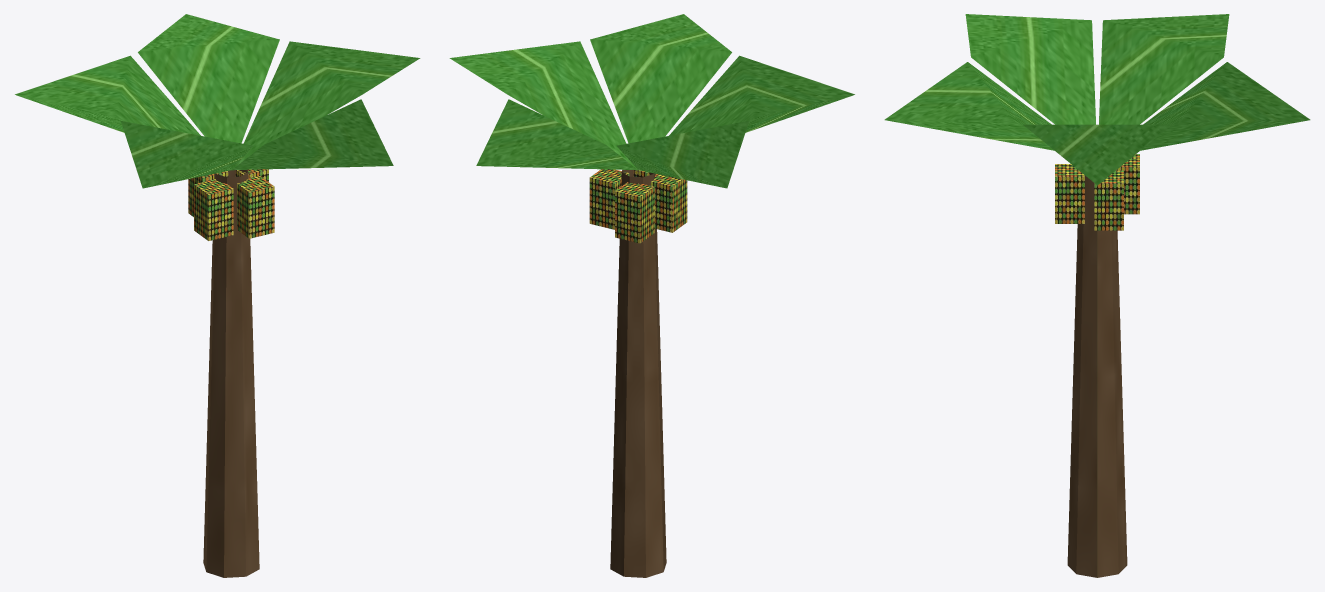
File: pawpaw-cream-far.glb
3 renders of one model, left to right at view 1: azimuth 30°, elevation 25°; view 2: azimuth 150°, elevation 25°; view 3: azimuth 270°, elevation 25°, orthographic. The views are drawn at different scales.
Parts seen in each view (by area): view 1: pawpaw-cream-far; view 2: pawpaw-cream-far; view 3: pawpaw-cream-far.
Part boxes in pixels (left/top/right/bottom): pawpaw-cream-far: left=15, top=14, right=420, bottom=577; pawpaw-cream-far: left=449, top=14, right=854, bottom=577; pawpaw-cream-far: left=884, top=14, right=1310, bottom=577.
Bounding box in the file's own units: 2.71 × 3.6 × 2.85.
1 material, 1 textured.
